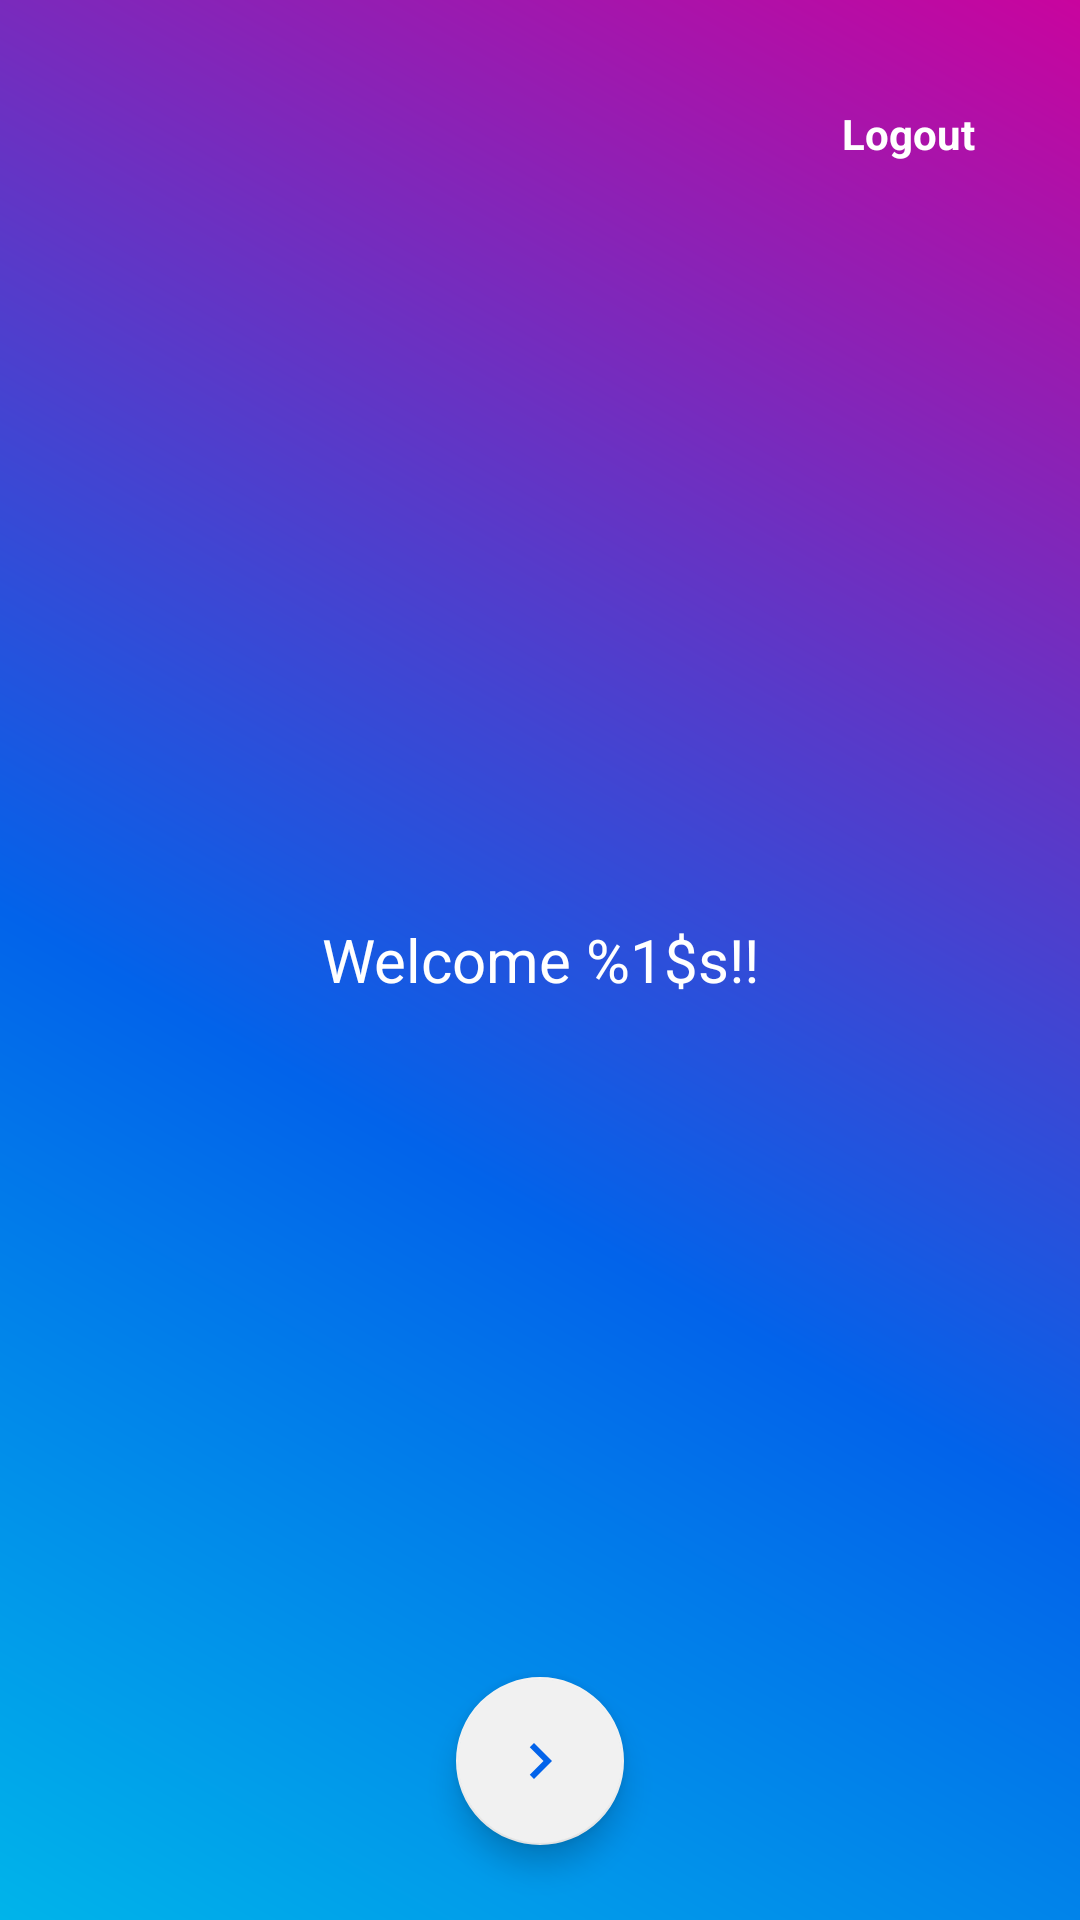

Named icons in this screenshot (1080*1920) and their centers, (x=x, y=y):
chevron right: (x=540, y=1761)
